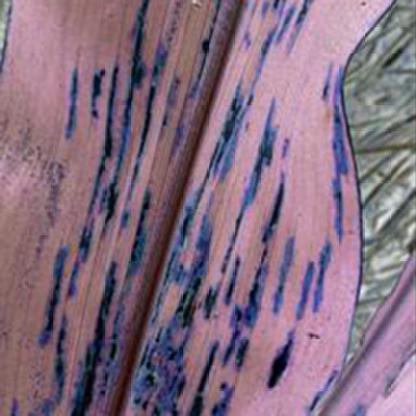Corn leaf blight: (1, 2, 399, 414)
